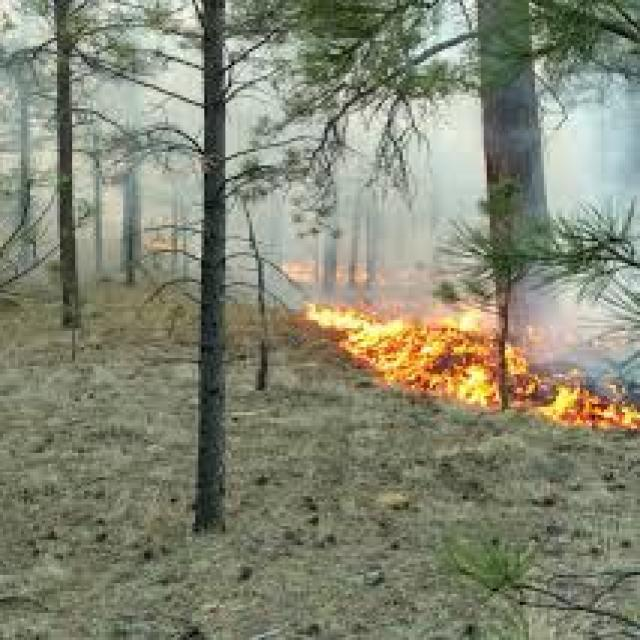Fire: (303, 277, 640, 443)
Smoke: (562, 105, 632, 190)
